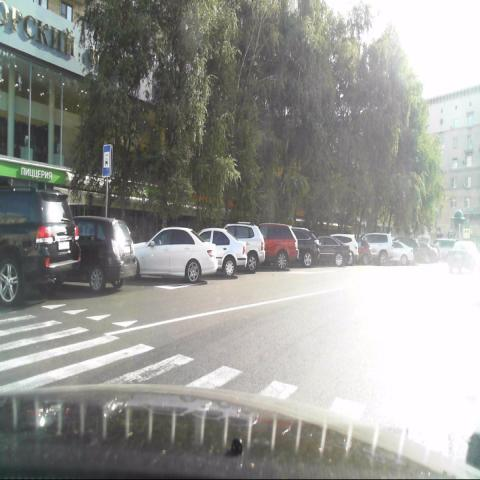7_5: (103, 146, 112, 178)
